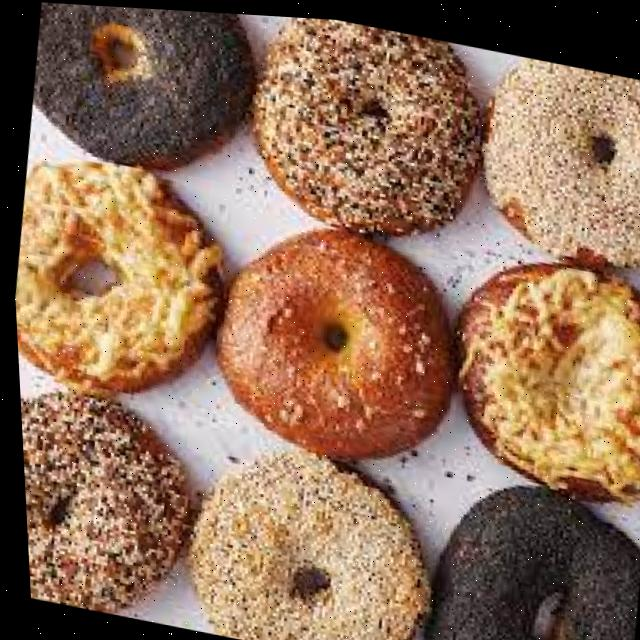Bagel: (213, 225, 448, 454), (251, 14, 480, 230), (12, 161, 218, 389), (182, 446, 424, 640), (454, 256, 640, 493), (16, 391, 184, 613), (32, 2, 252, 167), (482, 50, 640, 259)
